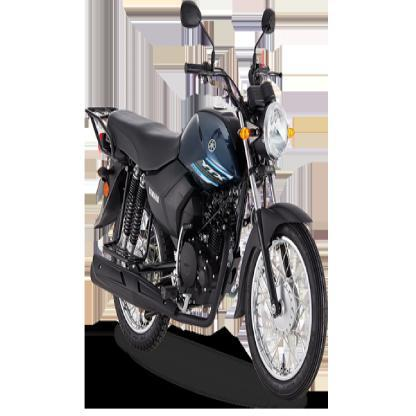Motorcycle: (82, 0, 331, 402)
